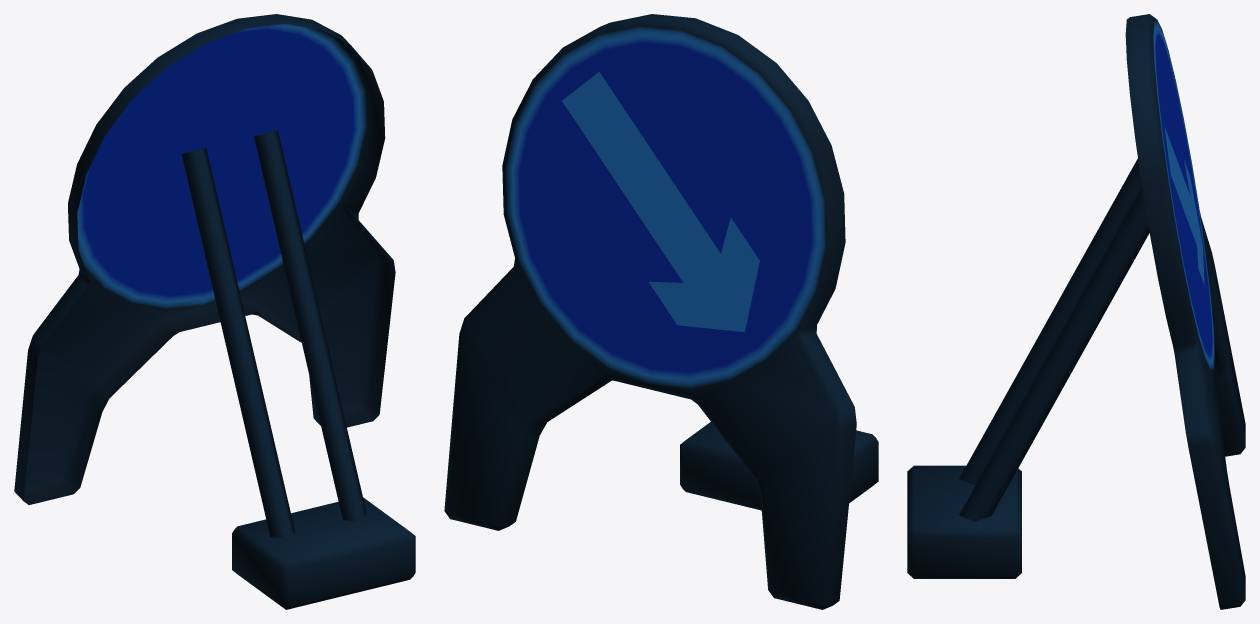
The model's file is RoadWorksArrowNight.fbx.
3 renders of one model, left to right at view 1: azimuth 30°, elevation 25°; view 2: azimuth 150°, elevation 25°; view 3: azimuth 270°, elevation 25°, orthographic. The views are drawn at different scales.
Visible parts, largest first — view 1: RoadWorksArrowNight; view 2: RoadWorksArrowNight; view 3: RoadWorksArrowNight.
Part boxes in pixels (box(x1,y1,x2,y2)): RoadWorksArrowNight: box(14, 14, 415, 609); RoadWorksArrowNight: box(444, 14, 878, 609); RoadWorksArrowNight: box(907, 14, 1245, 609).
Bounding box in the file's own units: 151 × 200 × 119.
